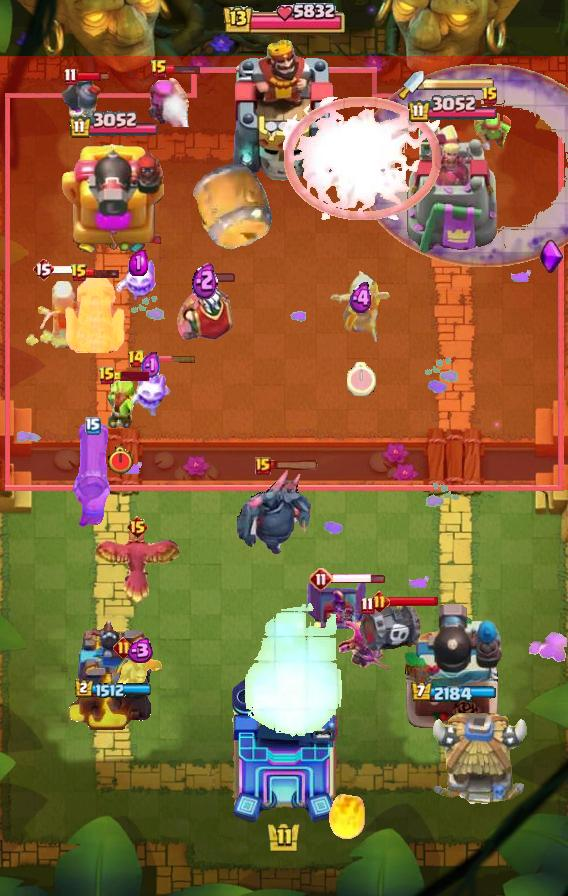bar: (406, 122, 500, 256)
barbarian-evolution: (283, 96, 441, 219)
battle-healer: (70, 424, 116, 528)
clock: (221, 0, 347, 40)
dirt: (191, 160, 275, 254)
electro-spirit: (192, 260, 218, 300), (350, 281, 375, 314), (124, 637, 154, 662), (141, 351, 161, 381), (129, 250, 148, 276)
elixir: (348, 362, 376, 396), (107, 446, 134, 475)
emote: (331, 571, 386, 584), (387, 595, 439, 607), (268, 460, 320, 471), (143, 354, 197, 363), (75, 69, 110, 82), (85, 267, 121, 279), (200, 271, 236, 283), (167, 63, 202, 75), (51, 264, 88, 275), (113, 371, 149, 381)
evolution-symbol: (338, 619, 396, 677)
giant-snowball: (469, 103, 511, 155)
goblin-brawler: (63, 269, 125, 353)
golden-knight: (91, 531, 183, 605)
golemite: (237, 469, 311, 557)
ice-spirit-evolution-symbol: (305, 578, 369, 632)
king-tower: (228, 676, 340, 826), (228, 35, 340, 181)
king-tower-bar: (424, 77, 496, 91)
mega-knight: (241, 602, 344, 739)
mirror: (129, 364, 173, 418), (114, 254, 162, 302)
poison: (317, 269, 405, 353), (15, 274, 103, 348)
prince: (428, 713, 530, 809)
princess: (58, 77, 106, 133)
queen-tower: (66, 617, 162, 731)
rocket: (356, 64, 567, 268)
royal-delivery: (113, 652, 165, 698)
royal-recruit-evolution: (360, 598, 422, 654)
selected: (407, 96, 499, 125), (68, 112, 160, 140), (410, 682, 496, 704), (75, 679, 153, 699)
skeleton-king: (175, 279, 235, 345)
skeleton-king-skill: (538, 238, 564, 274)
text: (309, 567, 333, 591), (127, 515, 150, 539), (32, 257, 54, 281), (369, 591, 390, 613), (114, 637, 135, 658), (127, 349, 146, 369), (150, 59, 168, 79), (481, 86, 499, 106), (70, 263, 88, 283), (98, 366, 116, 386), (85, 417, 101, 435), (255, 457, 271, 475), (62, 66, 77, 85), (360, 596, 375, 615)
tombstone: (145, 71, 195, 127)
tower-bar: (403, 601, 503, 731), (60, 138, 168, 256)
valkyrie: (328, 786, 370, 842)
zap: (105, 379, 135, 429)
